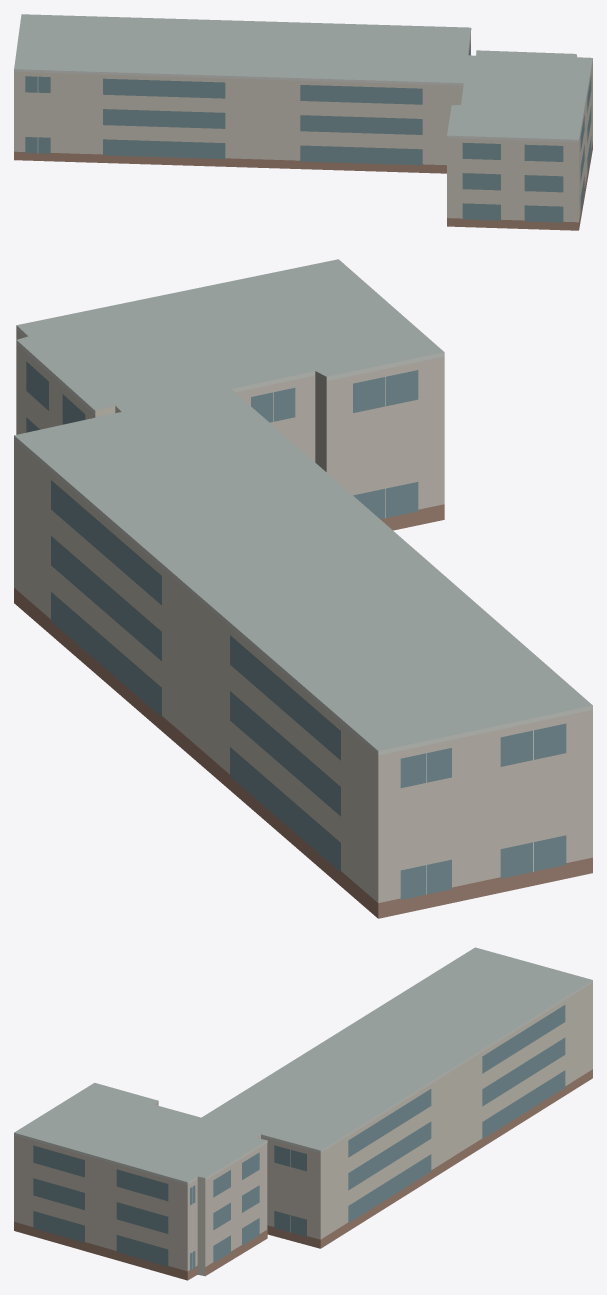
File: survey-upis-32972930.glb
3 renders of one model, top to bottom at view 1: azimuth 30°, elevation 25°; view 2: azimuth 150°, elevation 25°; view 3: azimuth 270°, elevation 25°, orthographic. The views are drawn at different scales.
Visible parts, largest first — view 1: survey-upis-32972930.tmp; view 2: survey-upis-32972930.tmp; view 3: survey-upis-32972930.tmp.
Boxes of the visible parts, bbox=[...] form: survey-upis-32972930.tmp: bbox=[14, 14, 592, 230]; survey-upis-32972930.tmp: bbox=[14, 259, 592, 918]; survey-upis-32972930.tmp: bbox=[14, 947, 592, 1280].
Bounding box in the file's own units: 46.94 × 9.15 × 48.87.
